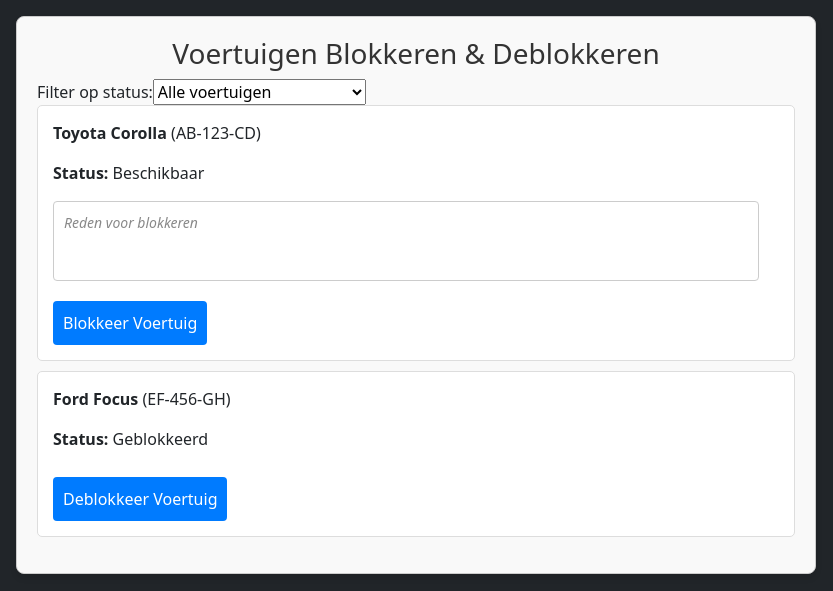
Scenario: VehicleBeheerPage - Voertuigen Blokkeren & Deblokkeren › Moet voertuigen filteren op status
Expected: the number of list items is 2, 37,105 -> 795,361; 37,371 -> 795,537
Select "Geblokkeerde voertuigen" in the dropdown with id "filter" at coordinates (260, 92), box 153,79 -> 366,105
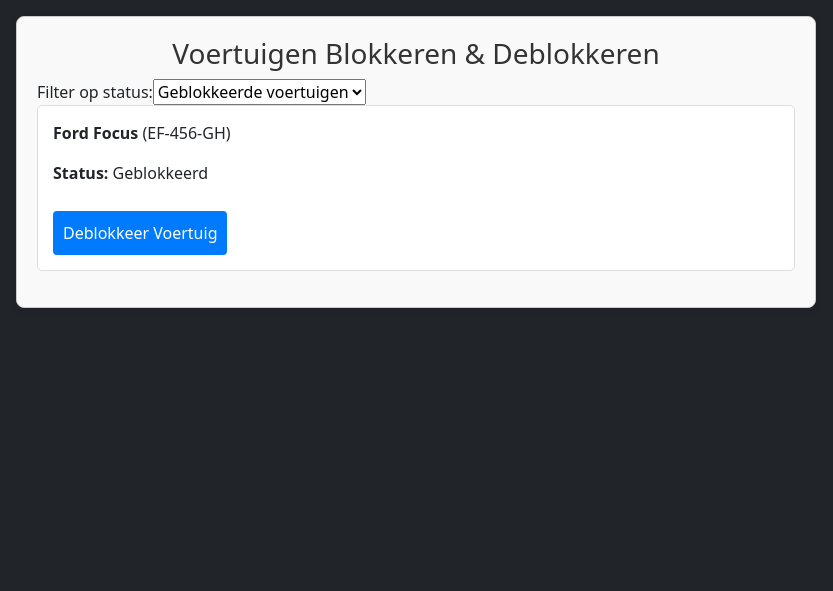
Expected: the text "Ford Focus" is shown, 53,122 -> 138,144
Expected: the number of list items is 1, 37,105 -> 795,271
Expected: the text "Toyota Corolla" is gone
